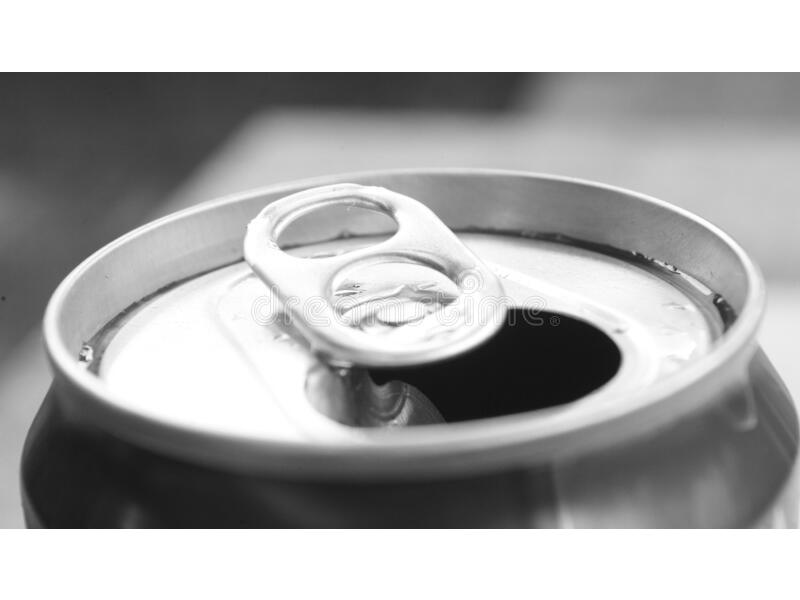can: (20, 162, 788, 532)
